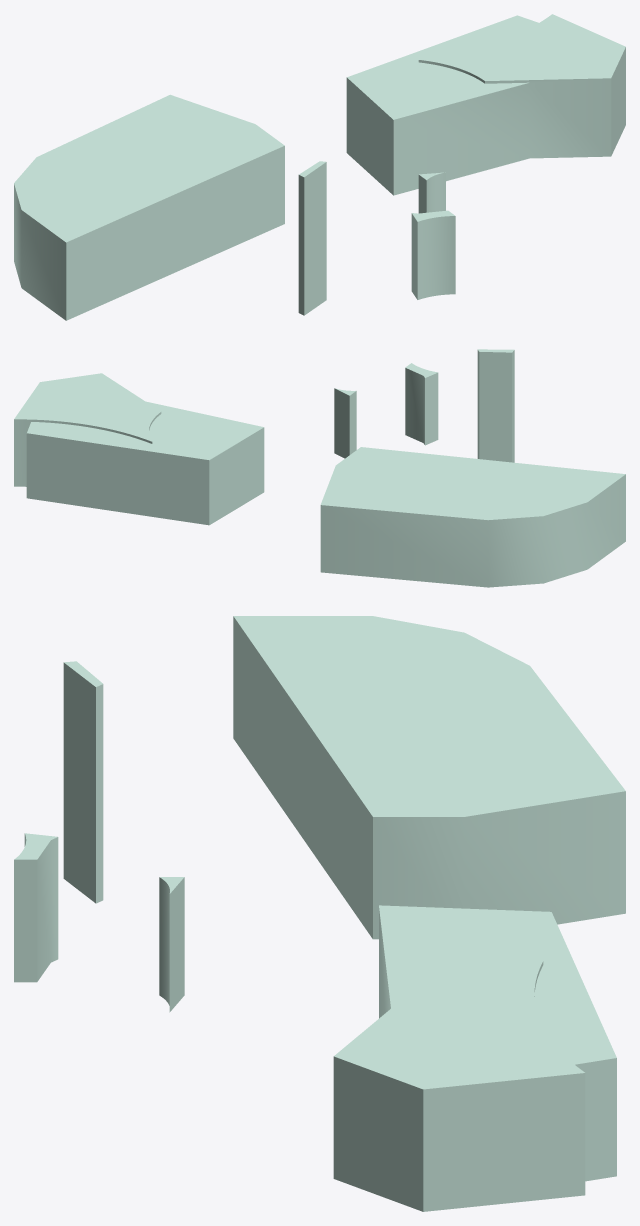
3 views of the same model, one above another, from view 1: azimuth 30°, elevation 25°; view 2: azimuth 150°, elevation 25°; view 3: azimuth 270°, elevation 25° (orthographic). The views are drawn at different scales.
Visible parts, largest first — view 1: Renderer Node; view 2: Renderer Node; view 3: Renderer Node.
Part boxes in pixels (<box>): Renderer Node: <box>14,14,625,320</box>; Renderer Node: <box>14,349,625,587</box>; Renderer Node: <box>14,616,625,1211</box>.
Size of the model in its own units: 1.94 by 0.4141 by 1.06.
